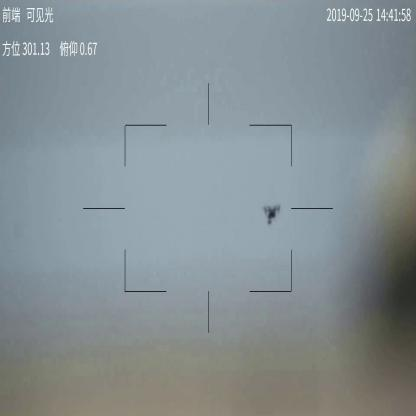uav: (258, 203, 280, 226)
